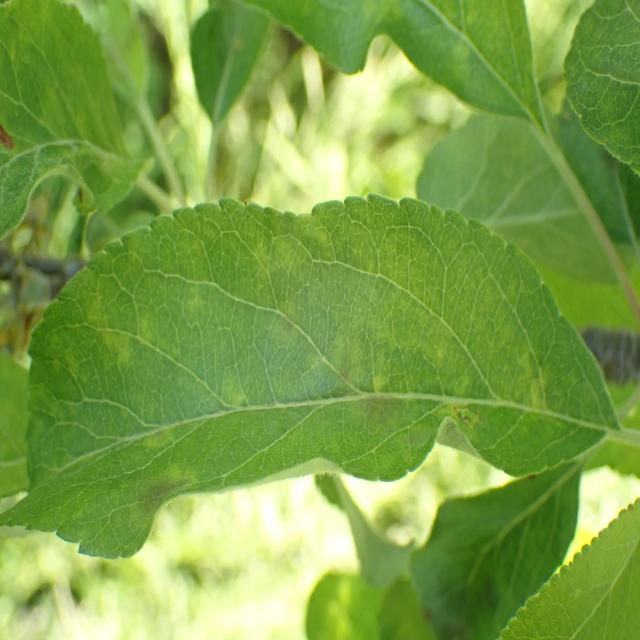scab: (21, 222, 561, 522), (414, 461, 579, 640)
